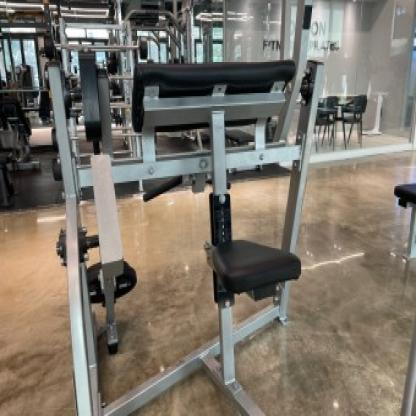arm curl machine: (46, 61, 323, 416)
